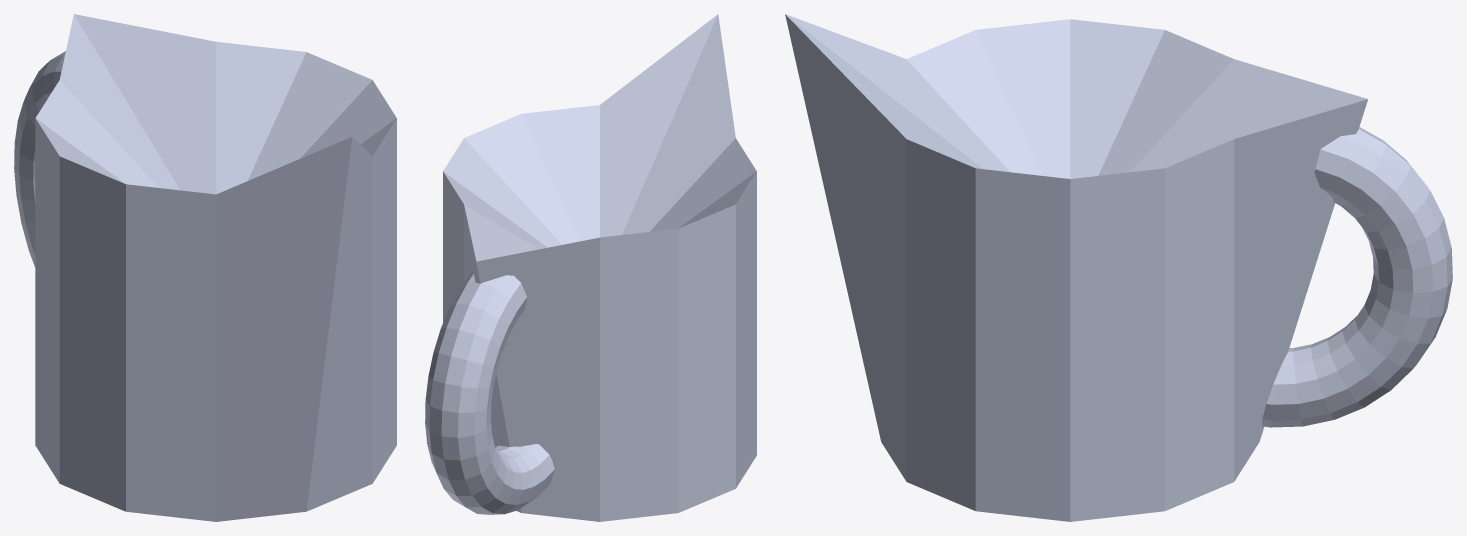
File: newpot2.fbx
3 renders of one model, left to right at view 1: azimuth 30°, elevation 25°; view 2: azimuth 150°, elevation 25°; view 3: azimuth 270°, elevation 25°, orthographic. The views are drawn at different scales.
Visible parts, largest first — view 1: pot; view 2: pot; view 3: pot.
Part boxes in pixels (x1=…): pot: x1=14, y1=14, x2=396, y2=521; pot: x1=425, y1=14, x2=756, y2=521; pot: x1=785, y1=14, x2=1452, y2=521.
Size of the model in its own units: 40 by 49.93 by 70.61.
